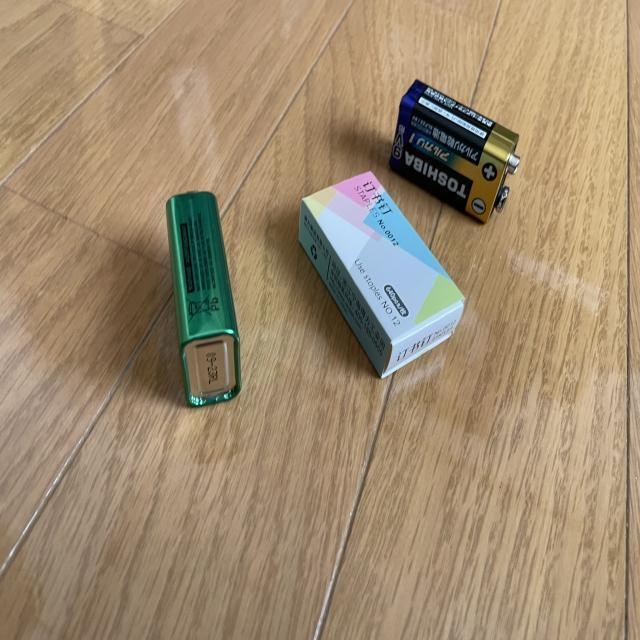9V: (389, 78, 522, 224), (166, 189, 242, 408)
